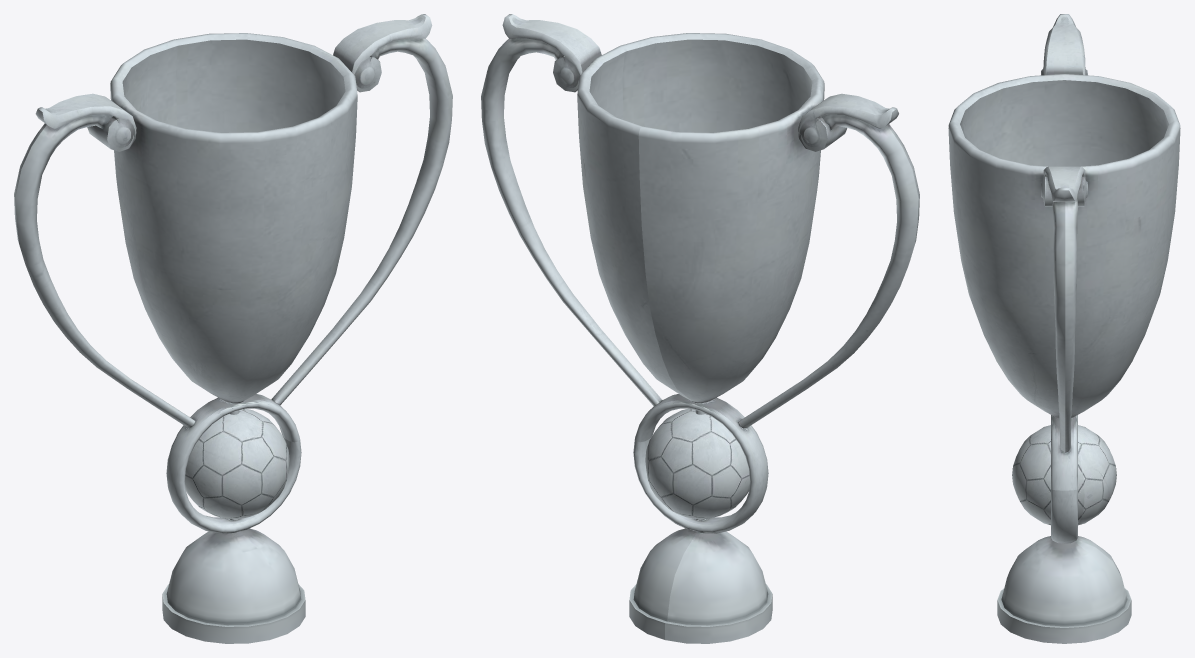
The model's file is trophy_840.glb.
The picture shows the model from 3 angles, left to right: view 1: azimuth 30°, elevation 25°; view 2: azimuth 150°, elevation 25°; view 3: azimuth 270°, elevation 25°; orthographic projection. The views are drawn at different scales.
Parts seen in each view (by area): view 1: trophy; view 2: trophy; view 3: trophy.
Part boxes in pixels (x1,y1,x2,y2): trophy: (14, 14, 452, 643); trophy: (481, 14, 919, 643); trophy: (948, 14, 1180, 643).
Size of the model in its own units: 0.4962 by 0.5997 by 0.2452.
Materials: 1 (1 with a texture image).
